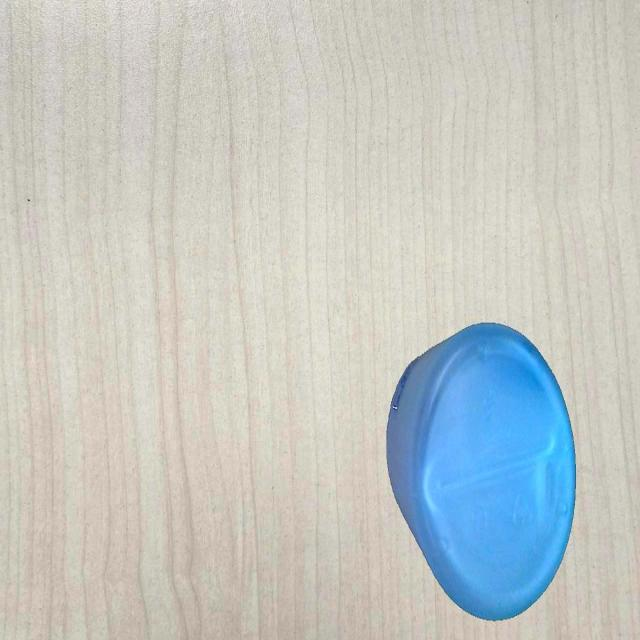bottle: (386, 316, 578, 618)
